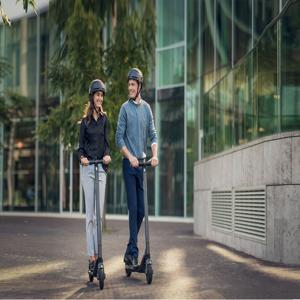human on a scooter: (114, 67, 159, 285), (76, 78, 112, 290)
